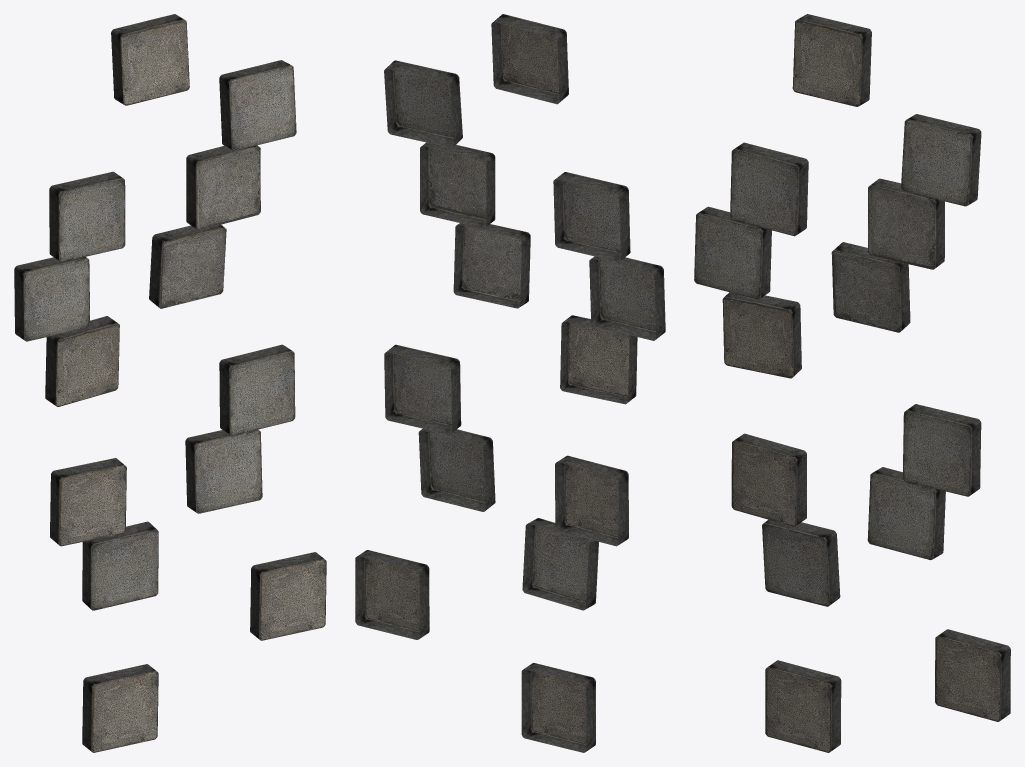
The model's file is hd_dec_UNI_003_PavingDirected_vertical_03.glb.
The picture shows the model from 3 angles, left to right: view 1: azimuth 30°, elevation 25°; view 2: azimuth 150°, elevation 25°; view 3: azimuth 330°, elevation 25°; orthographic projection.
Parts seen in each view (by area): view 1: set_0_group_0; view 2: set_0_group_0; view 3: set_0_group_0.
Boxes of the visible parts, box(x1,y1,x2,y2) form: set_0_group_0: box(14, 14, 326, 752); set_0_group_0: box(355, 14, 665, 752); set_0_group_0: box(694, 14, 1010, 752).
Bounding box in the file's own units: 2.21 × 4.98 × 0.1787.
Materials: 1 (1 with a texture image).
